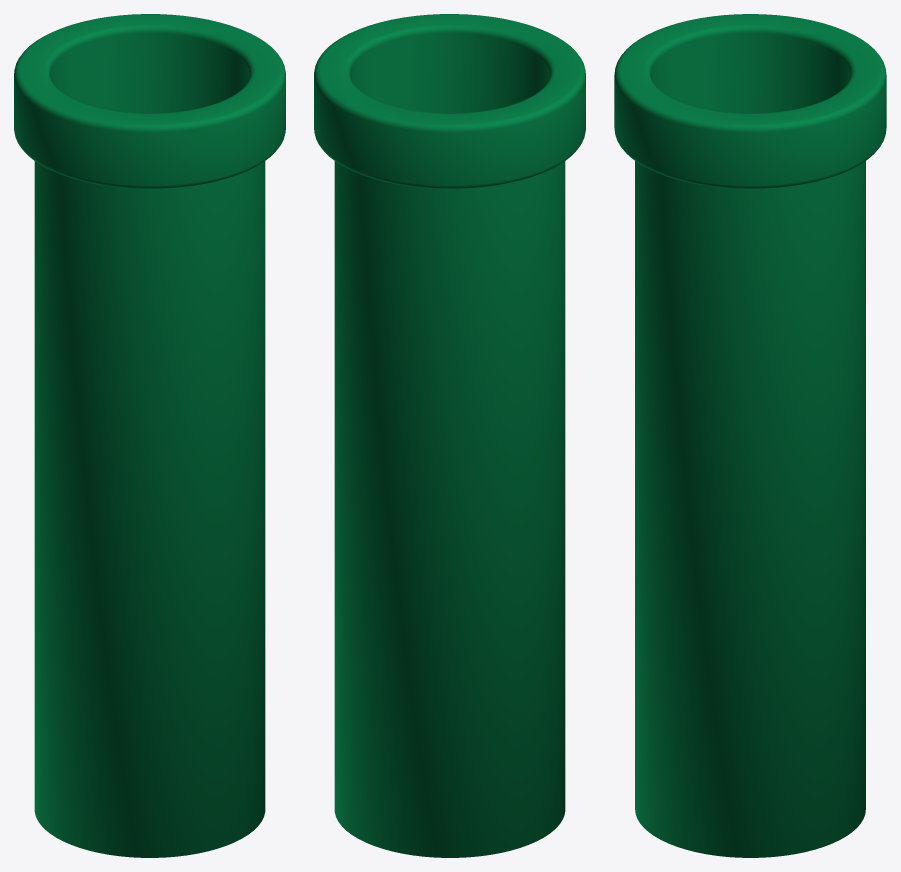
Rendered from GreenPipe.fbx.
3 renders of one model, left to right at view 1: azimuth 30°, elevation 25°; view 2: azimuth 150°, elevation 25°; view 3: azimuth 270°, elevation 25°, orthographic.
Visible parts, largest first — view 1: Cylinder; view 2: Cylinder; view 3: Cylinder.
Boxes of the visible parts, box(x1,y1,x2,y2) form: Cylinder: box(14, 14, 285, 857); Cylinder: box(314, 14, 585, 857); Cylinder: box(614, 14, 886, 857).
Size of the model in its own units: 49.97 by 150 by 49.97.
